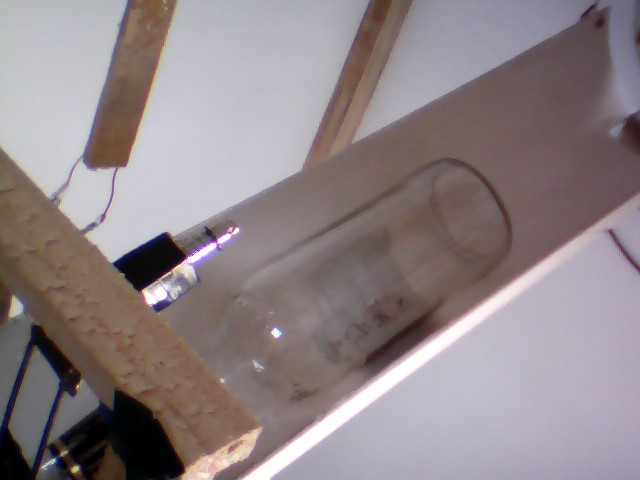vidrio: (180, 151, 519, 414)
